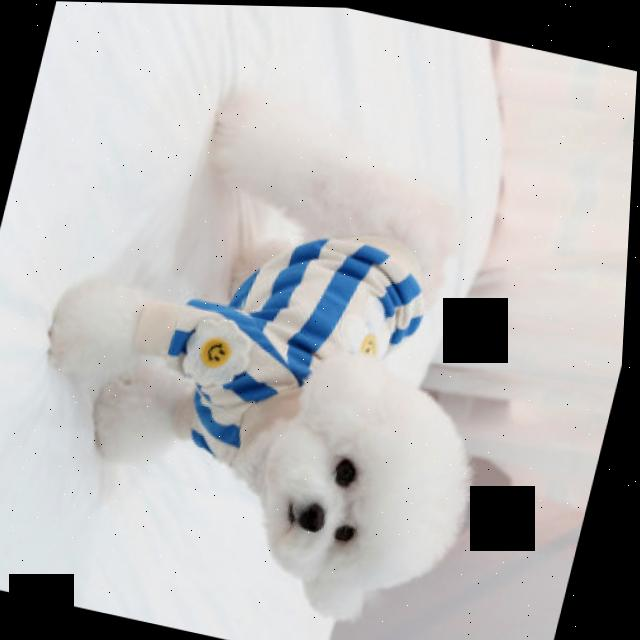cloth: (139, 234, 427, 462)
